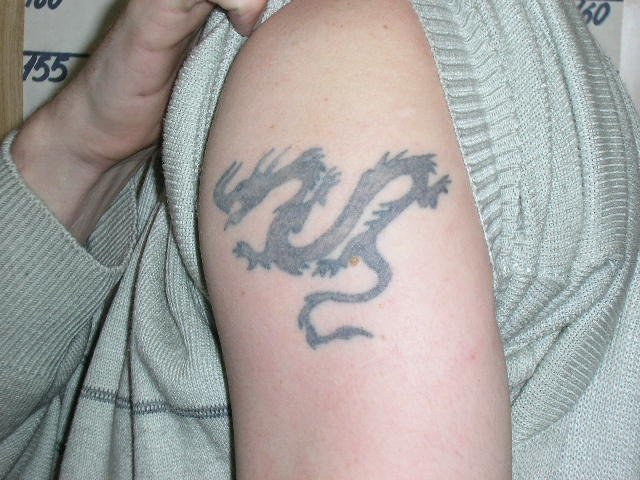tatu6_drakon: (206, 140, 461, 368)
